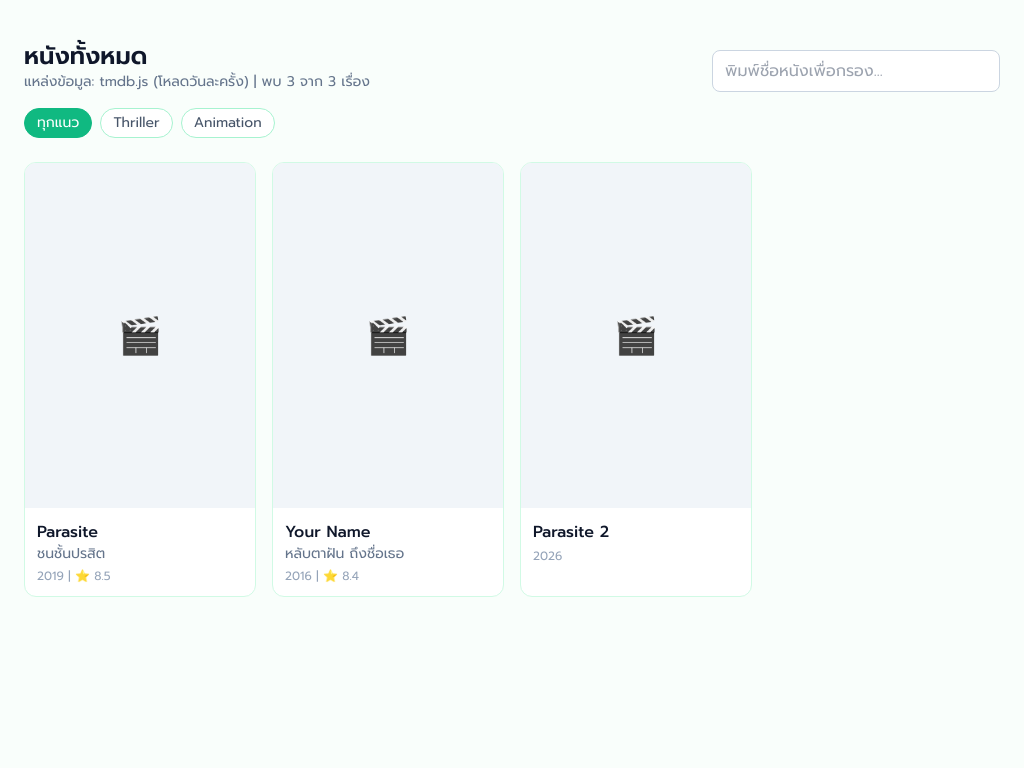
Test: พิมพ์ค้นหา ต้องกรองในเครื่องโดยไม่เรียก backend ซ้ำ
Expected: the heading "Parasite" is shown, [37,520,98,544]
Type "your" into the field with placeholder "พิมพ์ชื่อหนังเพื่อกรอง..." at point(856, 71), box [712,50,1000,92]
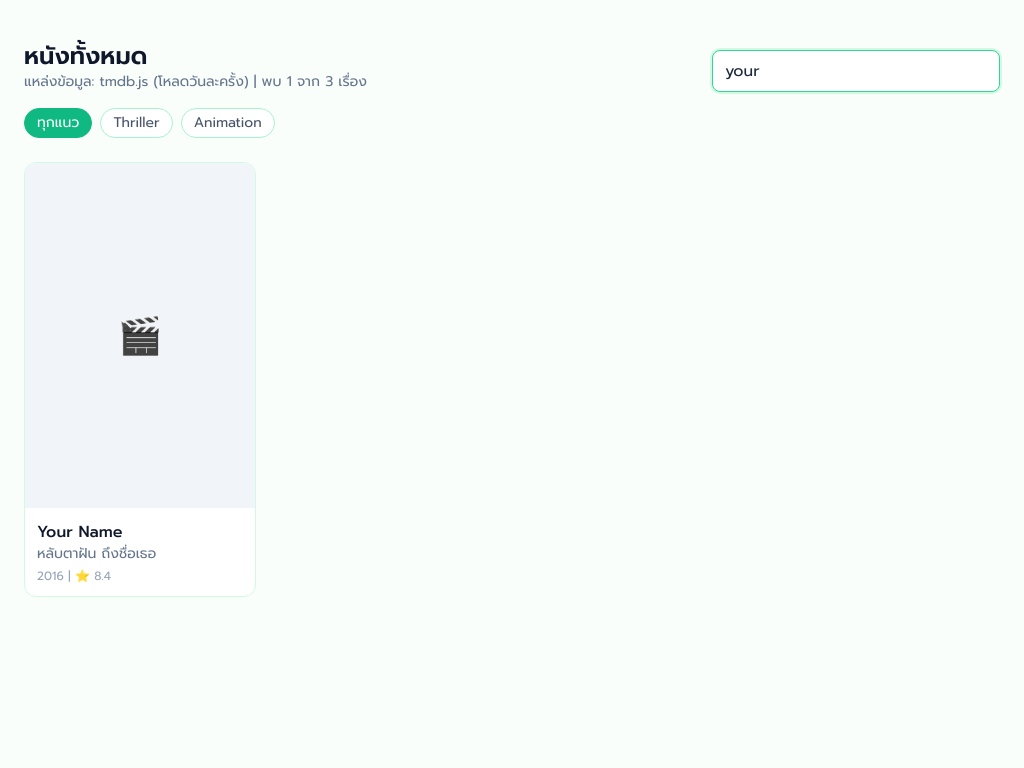
Now the number of links is 1, box [24,162,256,597]
Now the heading "Your Name" is shown, box [37,520,122,544]
